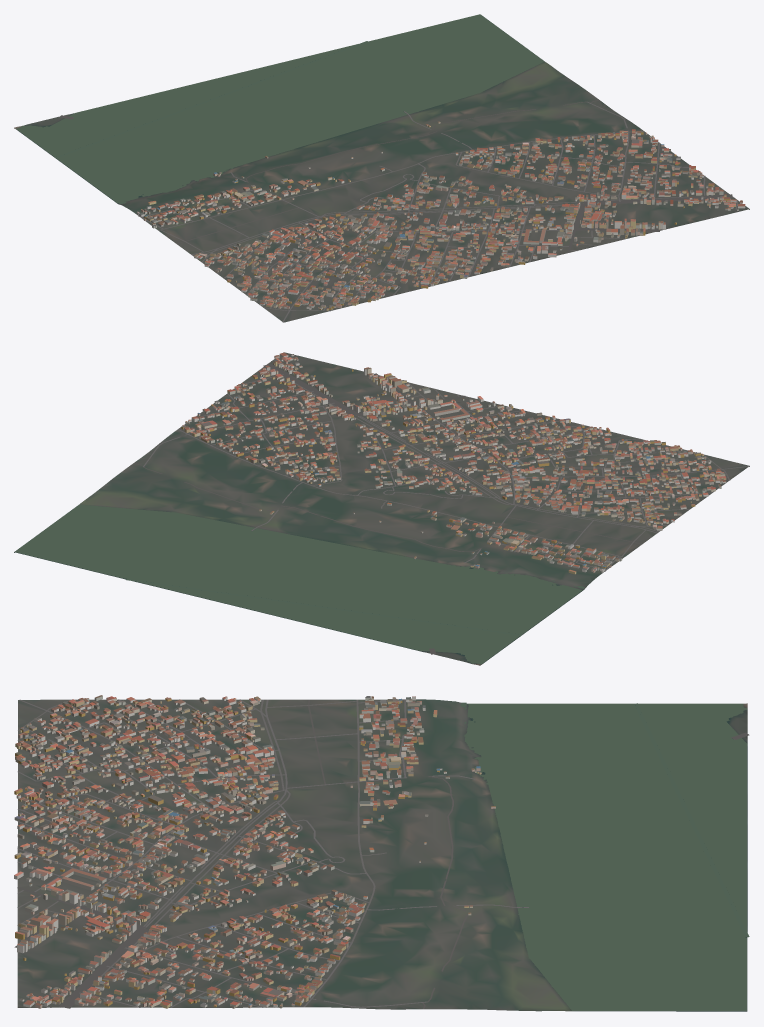
3 renders of one model, top to bottom at view 1: azimuth 30°, elevation 25°; view 2: azimuth 150°, elevation 25°; view 3: azimuth 270°, elevation 25°, orthographic. The views are drawn at different scales.
Visible parts, largest first — view 1: ground, water, buildings, roads; view 2: ground, water, buildings, roads; view 3: ground, water, buildings, roads.
Boxes of the visible parts, x1,y1,x2,y2 form: ground: (14, 16, 749, 322); water: (16, 14, 544, 203); buildings: (137, 121, 745, 310); roads: (60, 100, 738, 322); ground: (14, 352, 749, 665); water: (15, 504, 584, 664); buildings: (181, 352, 726, 574); roads: (134, 356, 749, 654); ground: (17, 699, 747, 1011); water: (460, 702, 749, 1010); buildings: (14, 695, 495, 1008); roads: (14, 699, 749, 1009).
Size of the model in its own units: 1411 by 33.69 by 1414.
